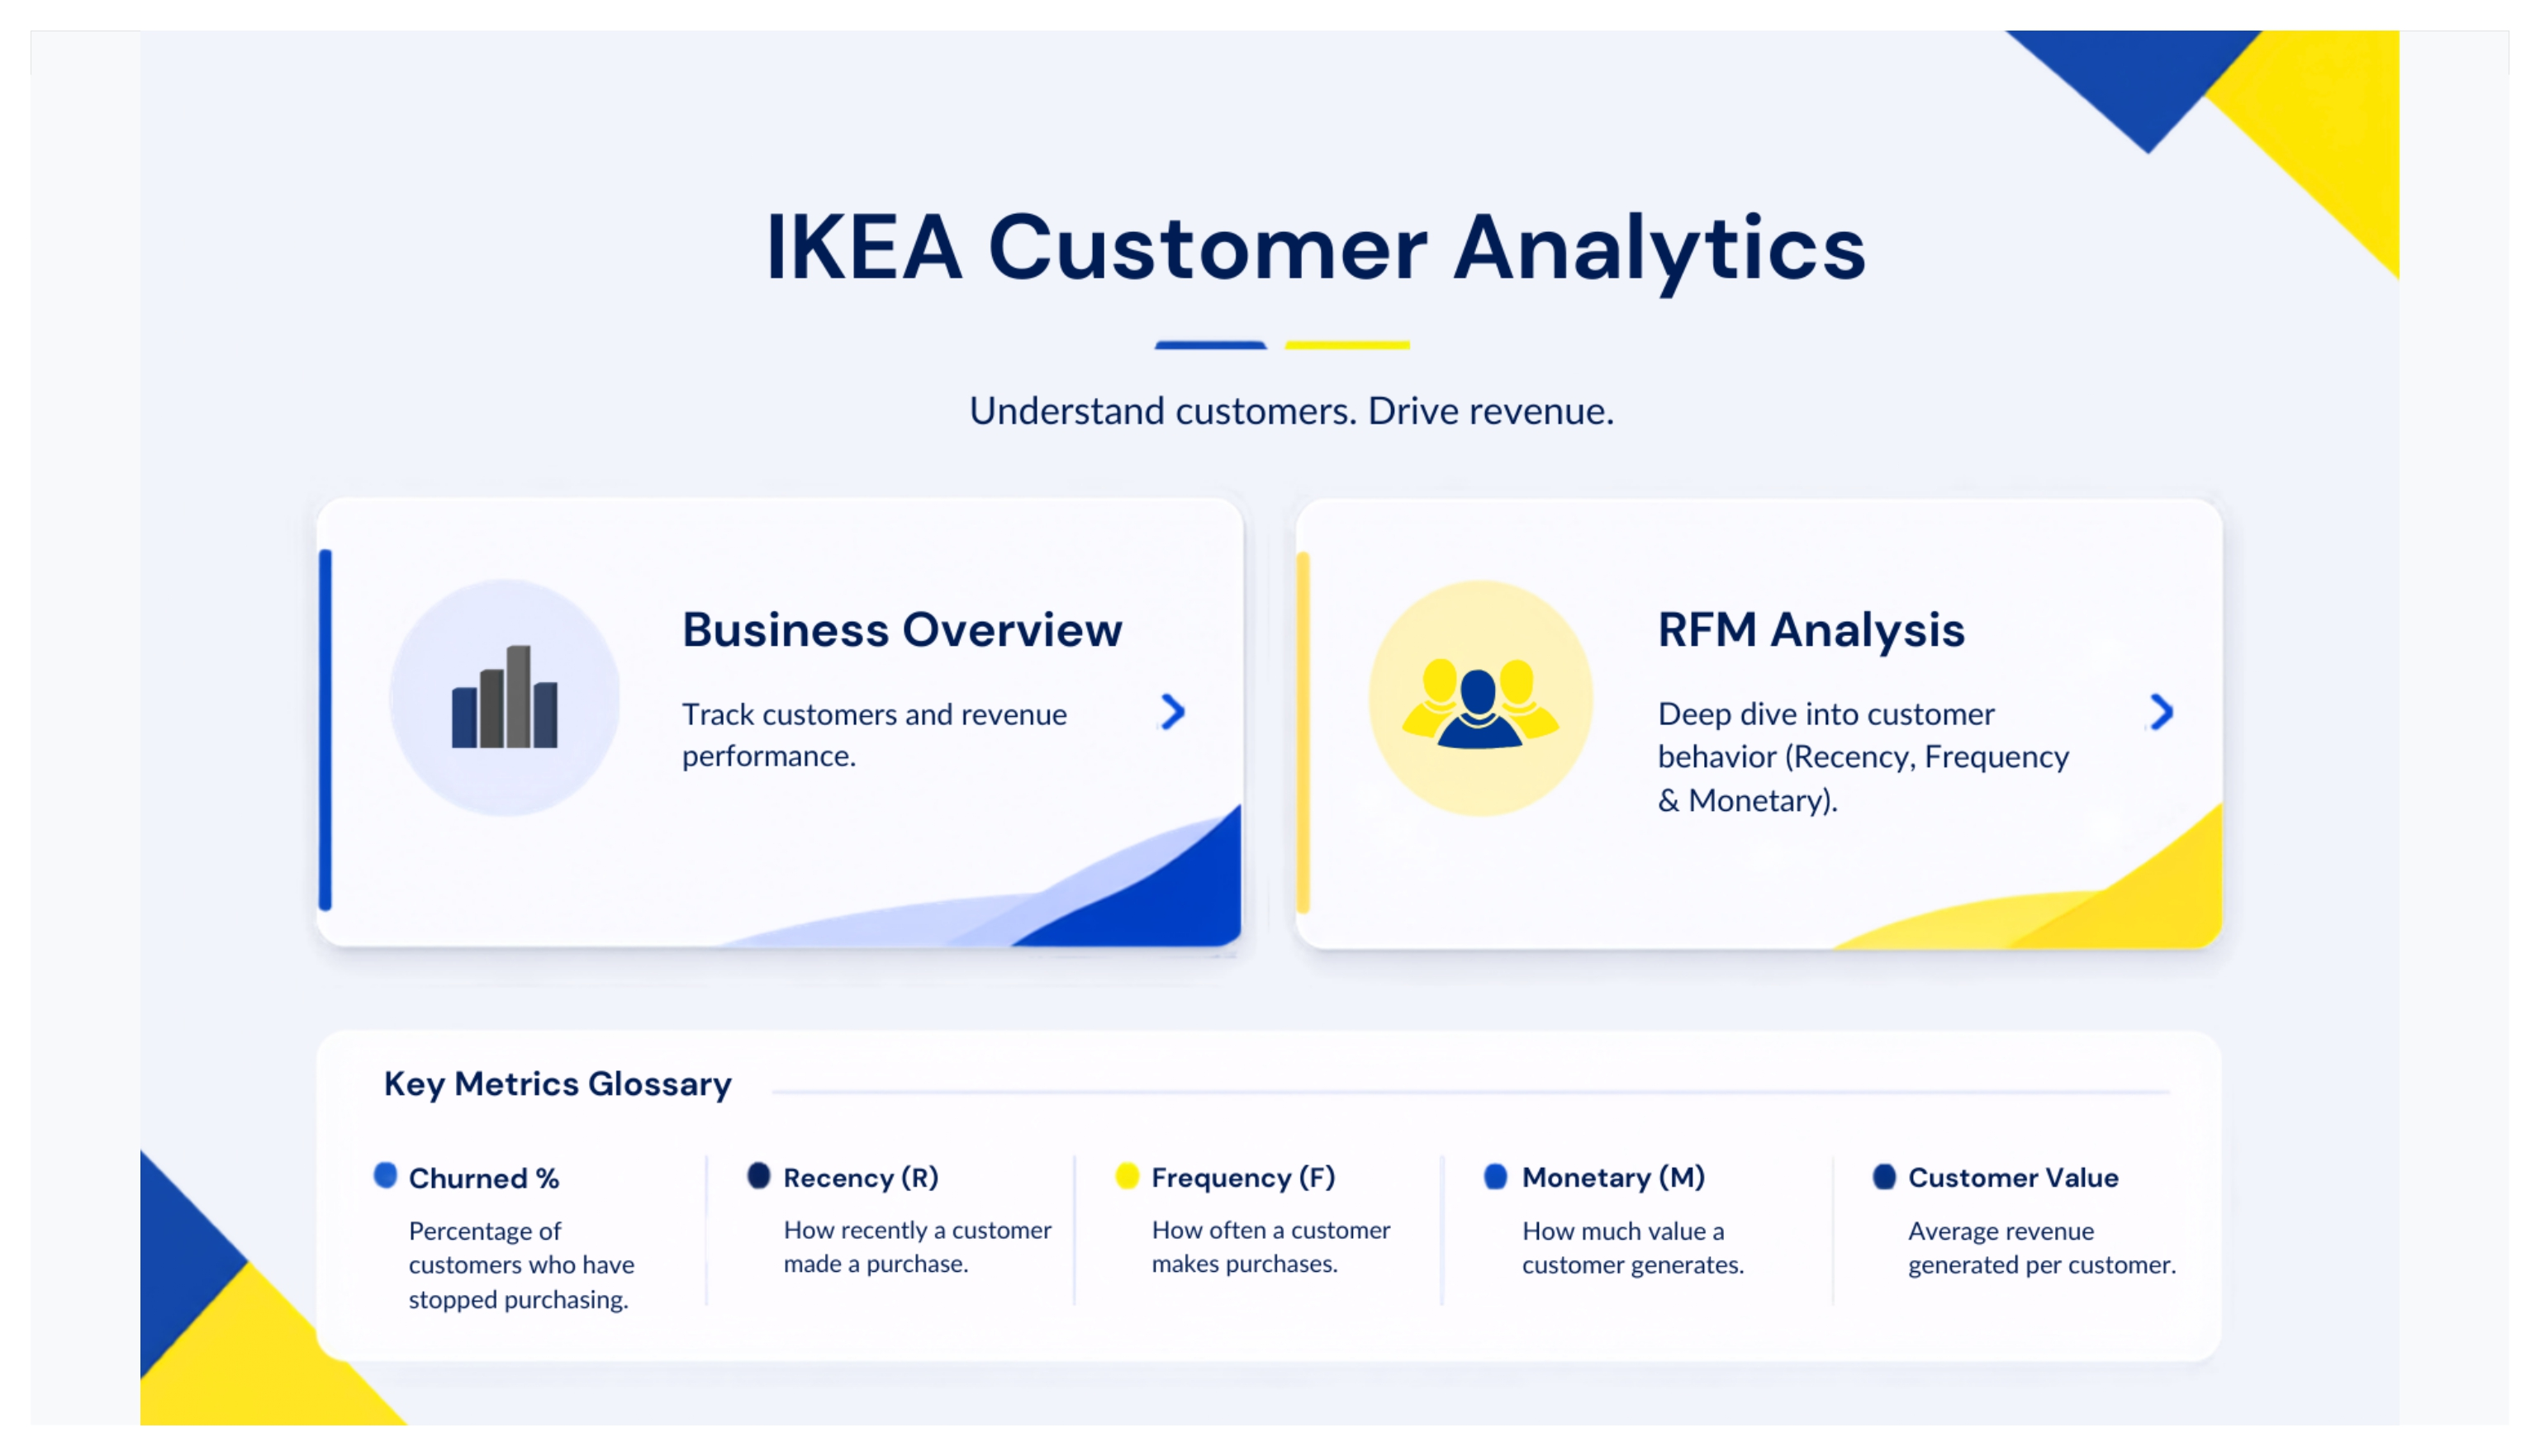

This screenshot's page, from the dashboard's own definition file:
{"tool":"powerbi","page":{"name":"Home","canvas":[1920,1080],"ordinal":0},"visuals":[{"type":"pageNavigator","box":[215,363.8,1488.8,351.2],"z":0}]}

Visuals, with their boxes on the page's 1920x1080 design canvas (x1, y1, x2, y2). These are canvas units, not pixel positions in the 2540x1456 screenshot, which may show the page scaled, cropped or inside an application window:
pageNavigator: 215/364/1704/715
